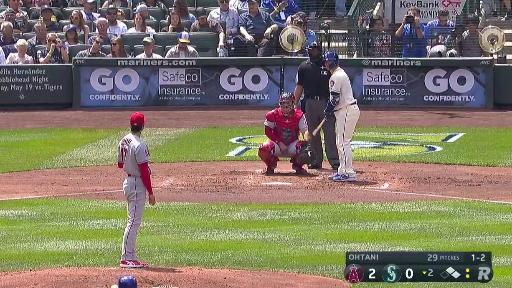pitcher: (117, 112, 156, 268)
